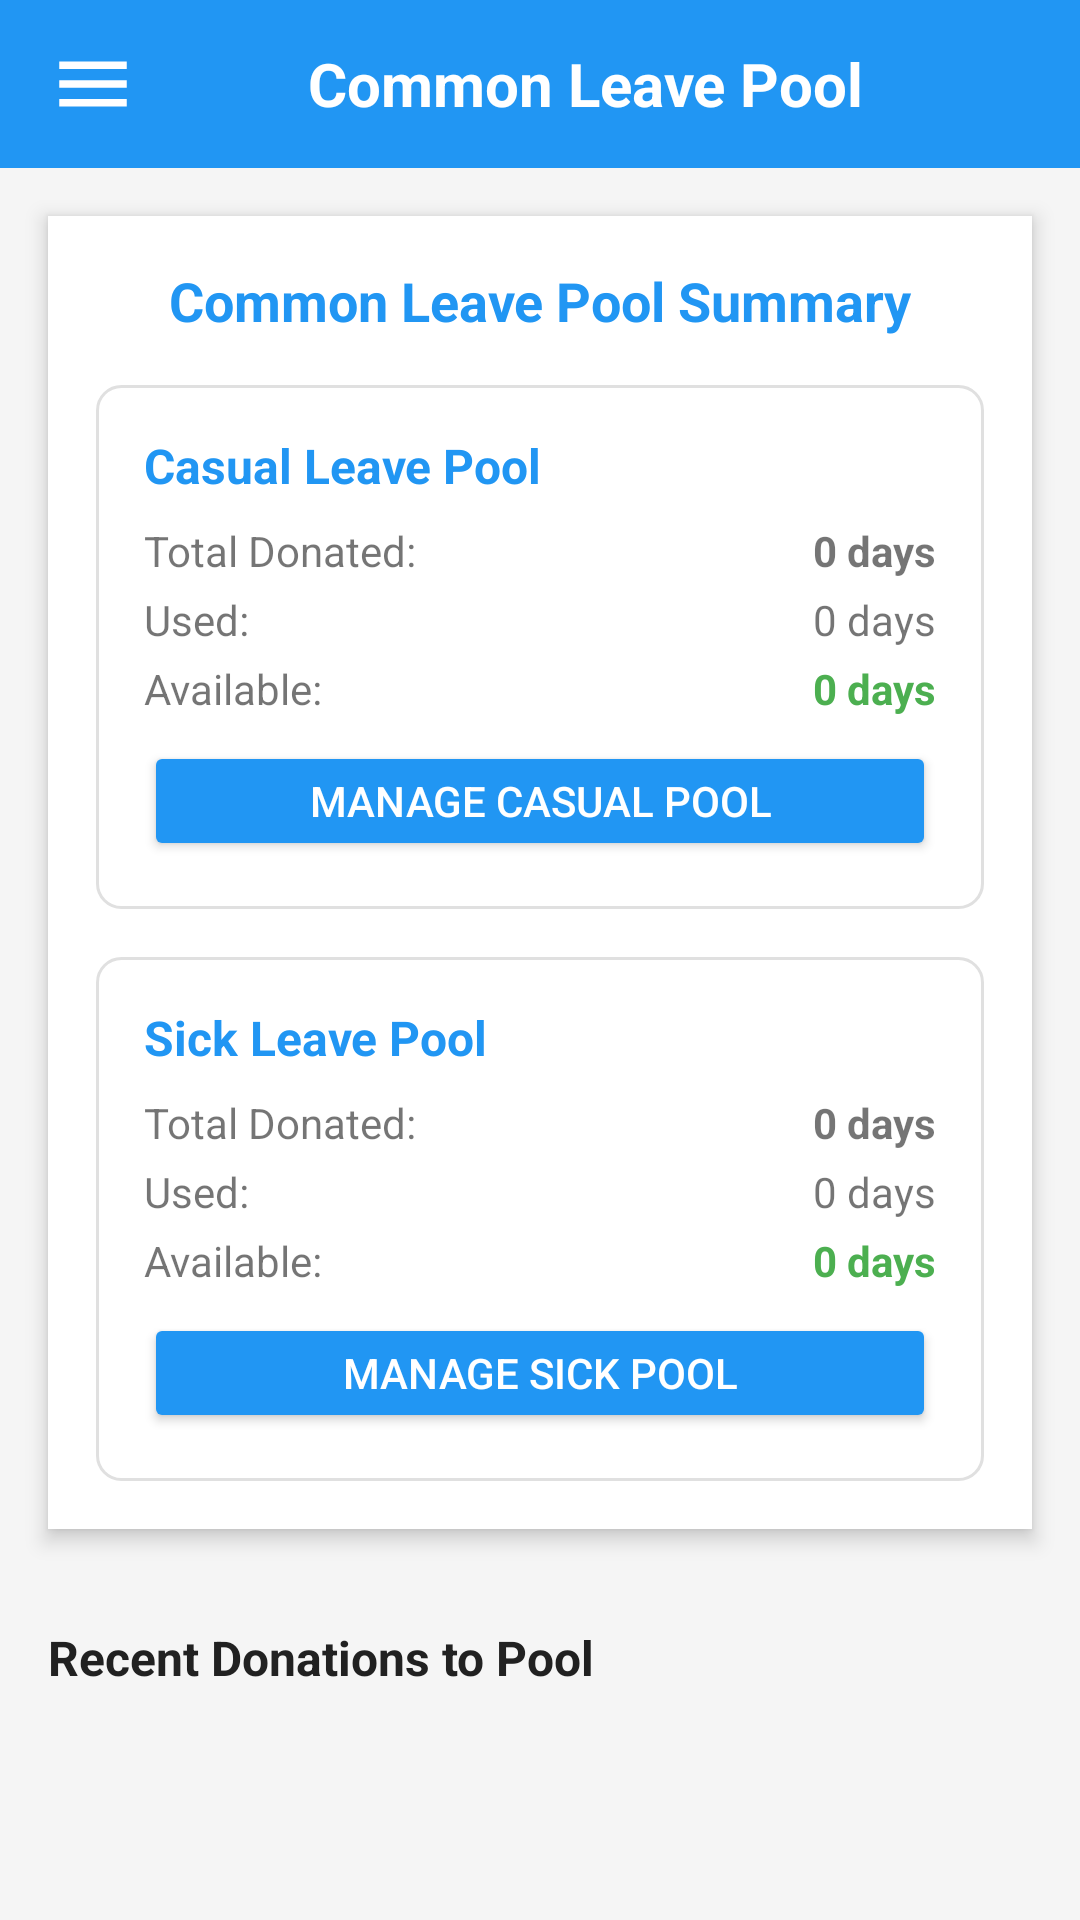

Screen size 1080w x 1920h. Icon name, then its center in pixels as point (x, y):
menu: point (93, 84)
